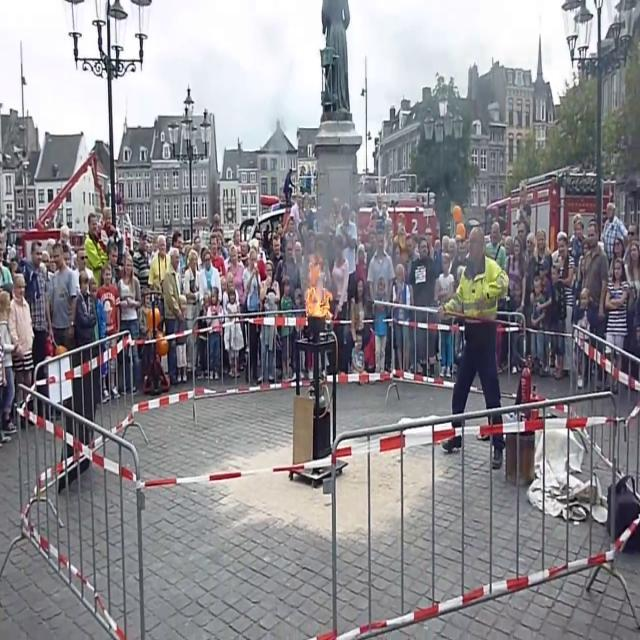Fire: (304, 250, 328, 317)
Smoke: (305, 158, 359, 275)
